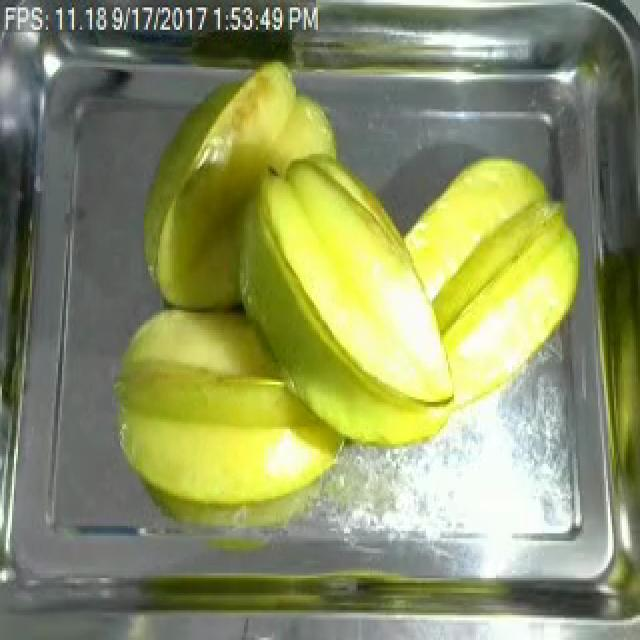fruit: (212, 132, 474, 462), (132, 50, 344, 325), (390, 139, 594, 422), (100, 298, 352, 516)
